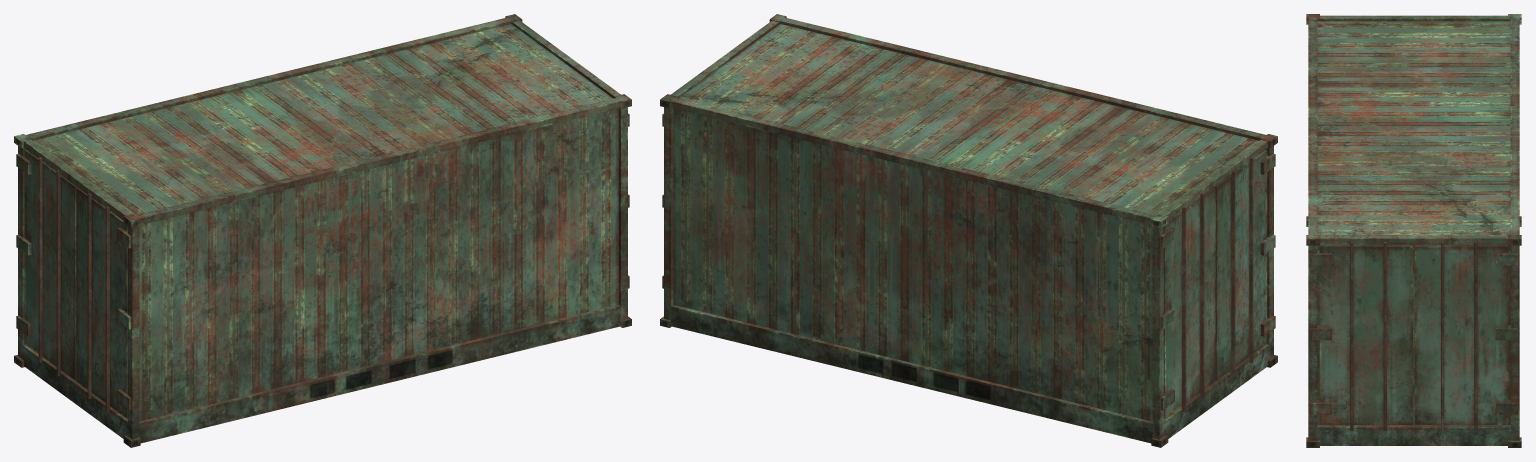
The model's file is Component_ContainerGreen_grp.fbx.
3 views of the same model, side by side, from view 1: azimuth 30°, elevation 25°; view 2: azimuth 150°, elevation 25°; view 3: azimuth 270°, elevation 25° (orthographic). The views are drawn at different scales.
Visible parts, largest first — view 1: containerGreen_containerGreen; view 2: containerGreen_containerGreen; view 3: containerGreen_containerGreen.
Part boxes in pixels (bbox=[...]): containerGreen_containerGreen: bbox=[14, 14, 631, 447]; containerGreen_containerGreen: bbox=[660, 14, 1277, 447]; containerGreen_containerGreen: bbox=[1306, 14, 1521, 447].
Size of the model in its own units: 606 by 262 by 245.
